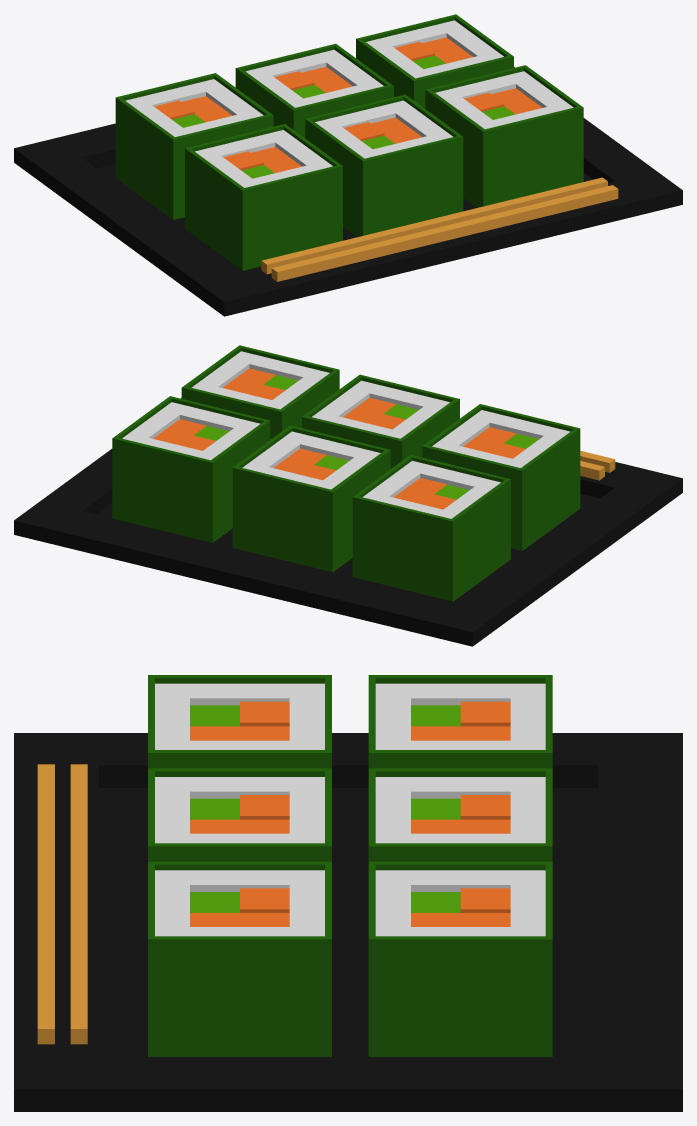
Rendered from sushi.gltf.
The picture shows the model from 3 angles, top to bottom: view 1: azimuth 30°, elevation 25°; view 2: azimuth 150°, elevation 25°; view 3: azimuth 270°, elevation 25°; orthographic projection. The views are drawn at different scales.
Parts seen in each view (by area): view 1: rolls; view 2: rolls; view 3: rolls.
Boxes of the visible parts, <box> form: rolls: <box>14,14,682,316</box>; rolls: <box>14,345,682,646</box>; rolls: <box>14,675,682,1111</box>.
Bounding box in the file's own units: 0.4 × 0.067 × 0.3178.
